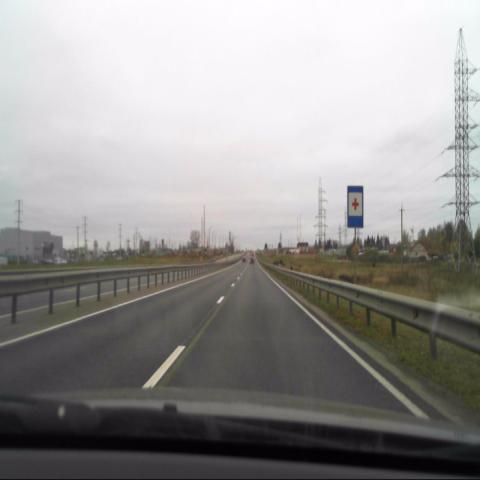7_1: (347, 185, 364, 228)
